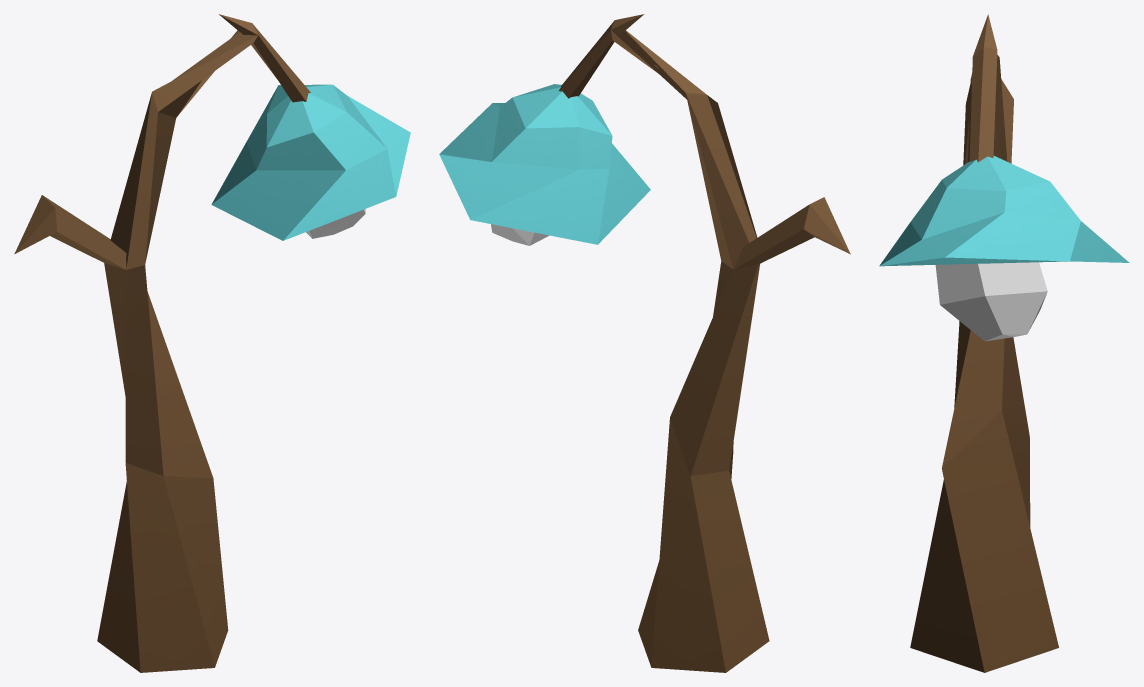
Rendered from plant_mushlight.fbx.
The picture shows the model from 3 angles, left to right: view 1: azimuth 30°, elevation 25°; view 2: azimuth 150°, elevation 25°; view 3: azimuth 270°, elevation 25°; orthographic projection. The views are drawn at different scales.
Parts seen in each view (by area): view 1: plant_mushlight; view 2: plant_mushlight; view 3: plant_mushlight.
Boxes of the visible parts, bbox=[...] form: plant_mushlight: bbox=[14, 14, 410, 672]; plant_mushlight: bbox=[439, 14, 850, 672]; plant_mushlight: bbox=[879, 14, 1129, 672].
Bounding box in the file's own units: 2.3 × 3.6 × 1.25.
Materials: 2 (1 with a texture image).
